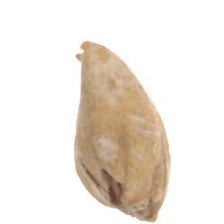L1: (123, 198, 163, 223), (72, 39, 96, 65)
L2: (72, 40, 171, 223)
